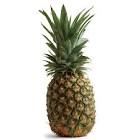Pineapple: (38, 3, 98, 138)
